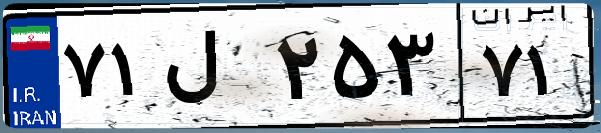1: (525, 38, 570, 115), (110, 28, 158, 98)
2: (270, 28, 330, 110)
3: (385, 28, 445, 110)
5: (330, 28, 385, 110)
7: (57, 26, 110, 100), (475, 38, 525, 113)
ل: (158, 20, 270, 120)
